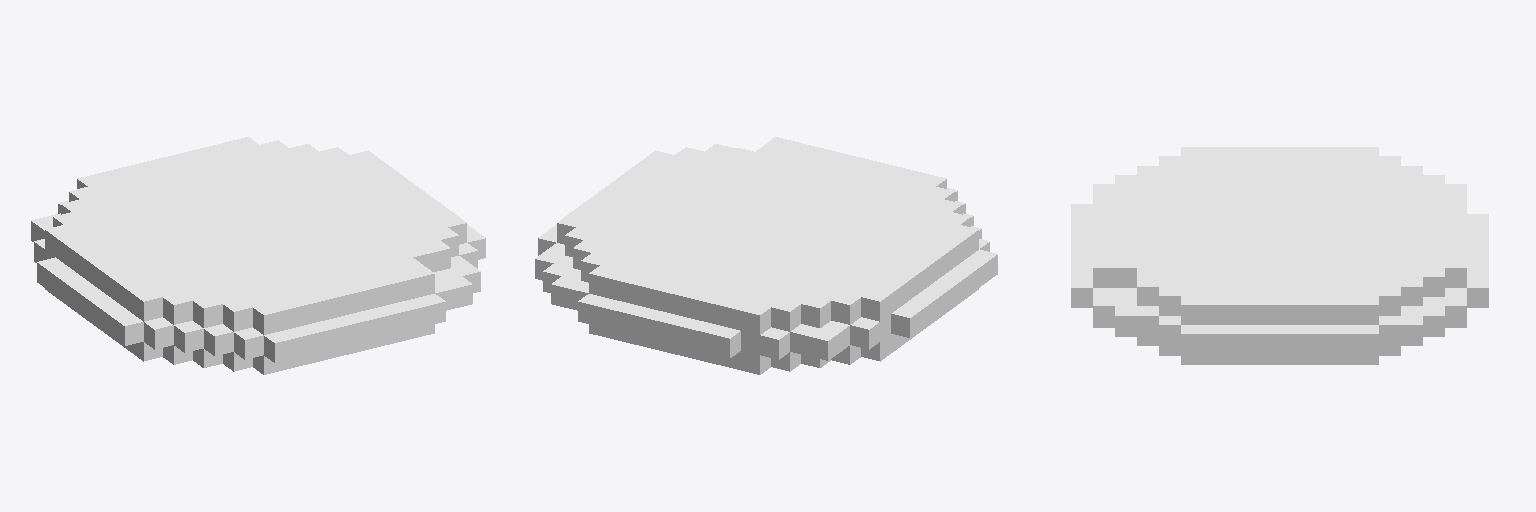
File: character_burger.obj
3 renders of one model, left to right at view 1: azimuth 30°, elevation 25°; view 2: azimuth 150°, elevation 25°; view 3: azimuth 270°, elevation 25°, orthographic.
Bounding box in the file's own units: 19 × 3 × 19.